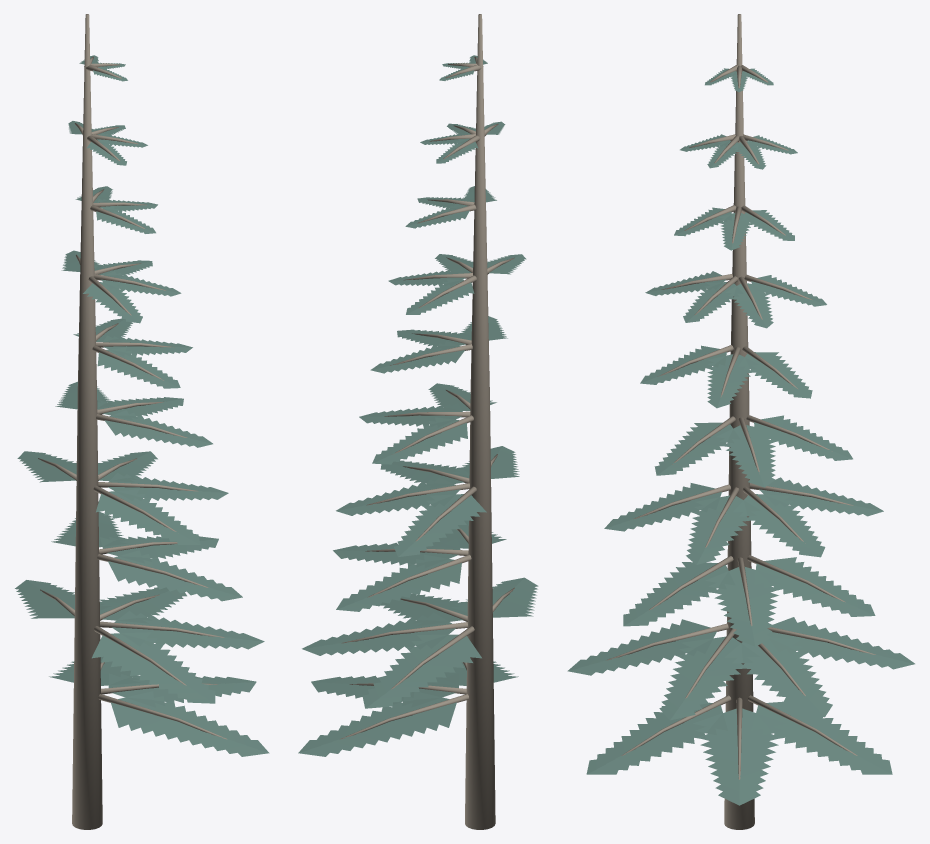
Rendered from alpine-and-arctic-biomes-wind-flagged-spruce-6016030c__20931.glb.
3 views of the same model, side by side, from view 1: azimuth 30°, elevation 25°; view 2: azimuth 150°, elevation 25°; view 3: azimuth 270°, elevation 25° (orthographic).
Parts seen in each view (by area): view 1: wind-flagged-spruce; view 2: wind-flagged-spruce; view 3: wind-flagged-spruce.
Part boxes in pixels (<box>): wind-flagged-spruce: <box>15,14,269,829</box>; wind-flagged-spruce: <box>298,14,538,829</box>; wind-flagged-spruce: <box>567,14,914,829</box>.
Size of the model in its own units: 1.92 by 7.44 by 2.91.
